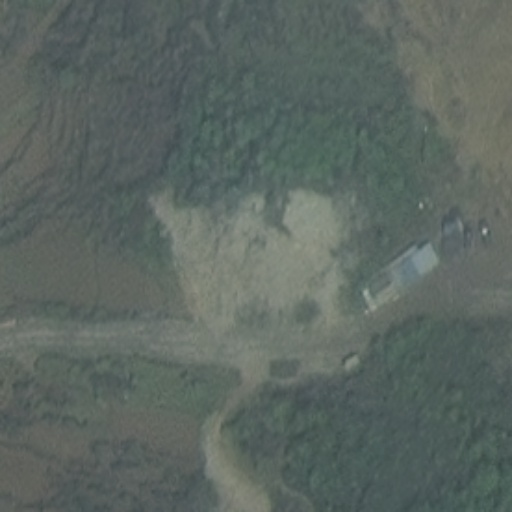landslide: (153, 191, 342, 342)
